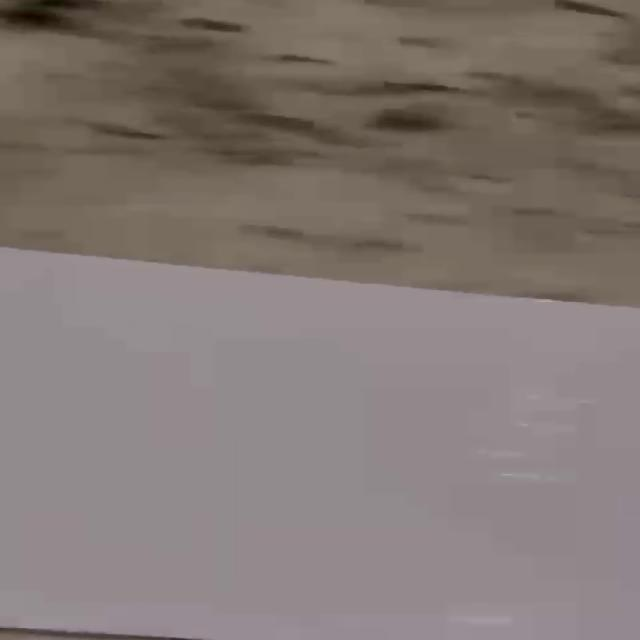road: (3, 248, 637, 640)
